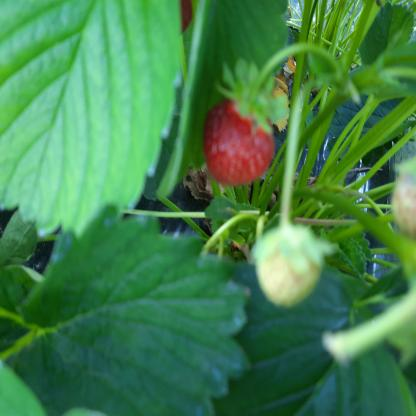ripe: (206, 103, 276, 180)
unripe: (259, 229, 322, 308)
